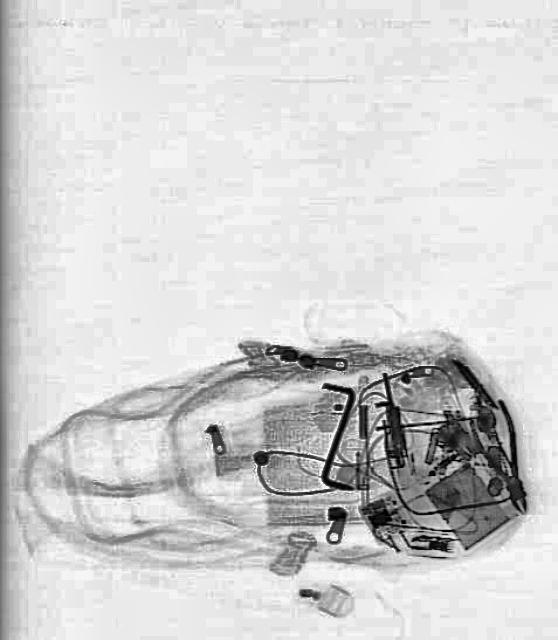Pliers: (463, 398, 545, 520)
